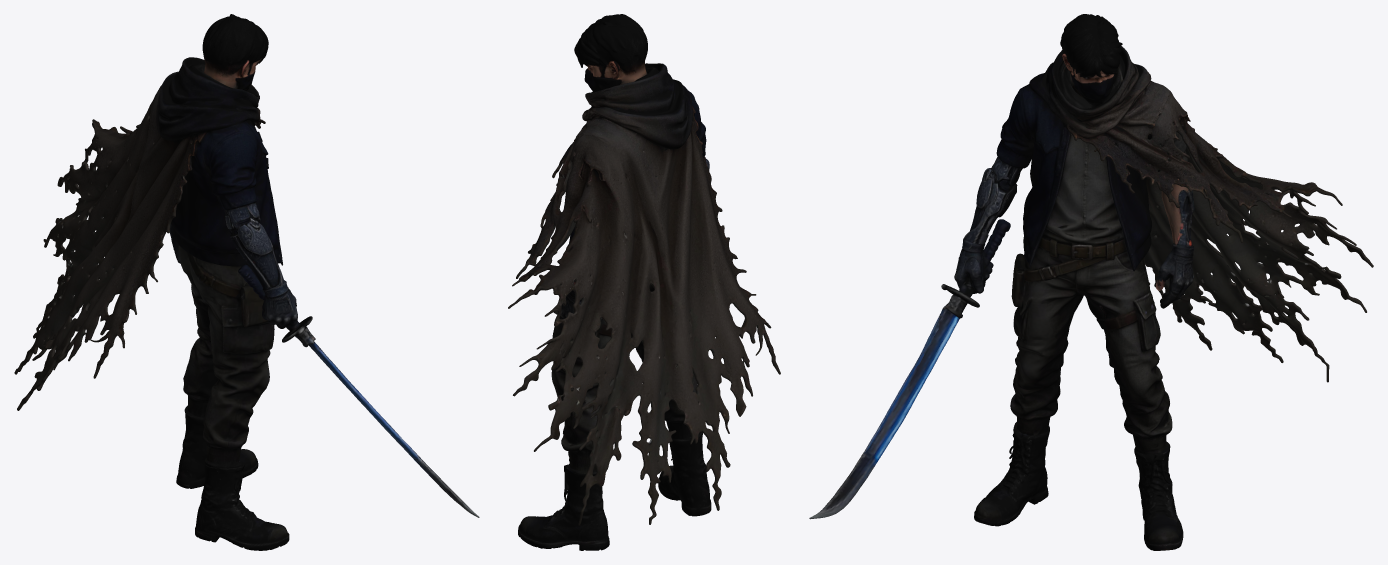
Rendered from lik-model_150k.glb.
The picture shows the model from 3 angles, left to right: view 1: azimuth 30°, elevation 25°; view 2: azimuth 150°, elevation 25°; view 3: azimuth 270°, elevation 25°; orthographic projection. The views are drawn at different scales.
Visible parts, largest first — view 1: Mesh_0; view 2: Mesh_0; view 3: Mesh_0.
Part boxes in pixels (left/top/right/bottom): Mesh_0: left=14, top=14, right=479, bottom=550; Mesh_0: left=508, top=14, right=780, bottom=550; Mesh_0: left=809, top=14, right=1373, bottom=550.
Size of the model in its own units: 0.5741 by 0.9992 by 1.
Materials: 1 (1 with a texture image).
